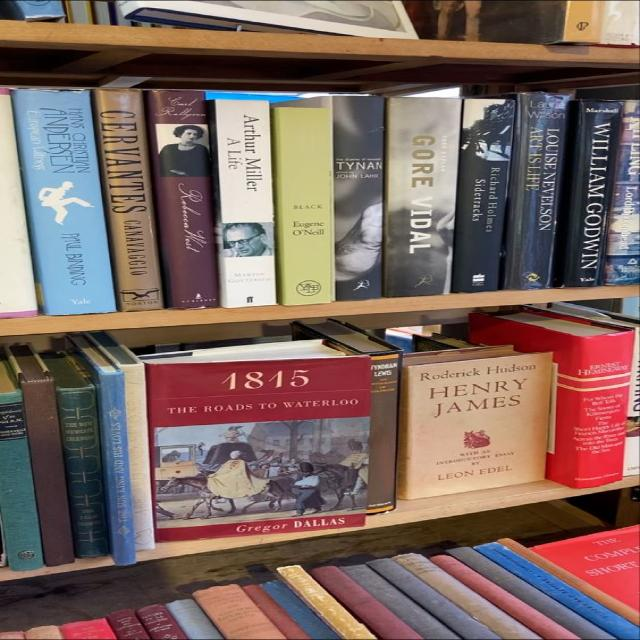book: (11, 89, 117, 316), (387, 97, 462, 298), (150, 89, 218, 309), (99, 89, 165, 312), (505, 93, 569, 289), (216, 100, 276, 309), (454, 98, 515, 292), (564, 101, 624, 288), (276, 107, 330, 307), (332, 96, 384, 300), (24, 381, 75, 568), (54, 386, 108, 559), (575, 329, 633, 489), (0, 392, 44, 571), (101, 373, 135, 565), (120, 364, 153, 551), (368, 351, 399, 515)
